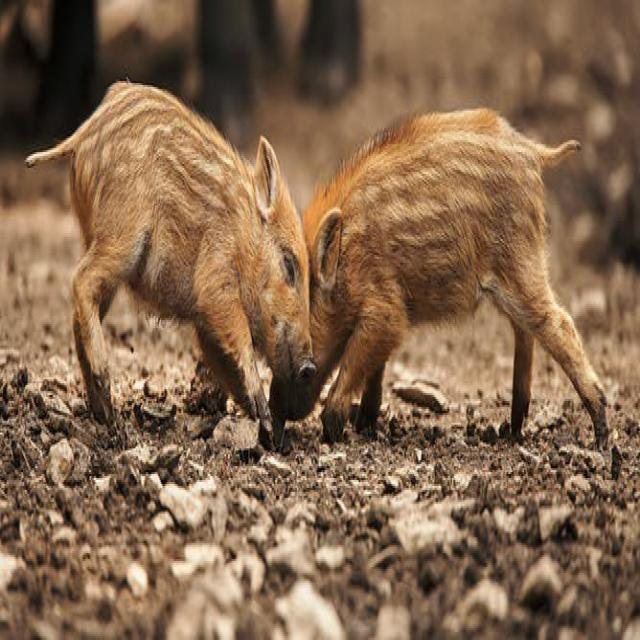Boar: (314, 108, 600, 444), (49, 81, 316, 440)
